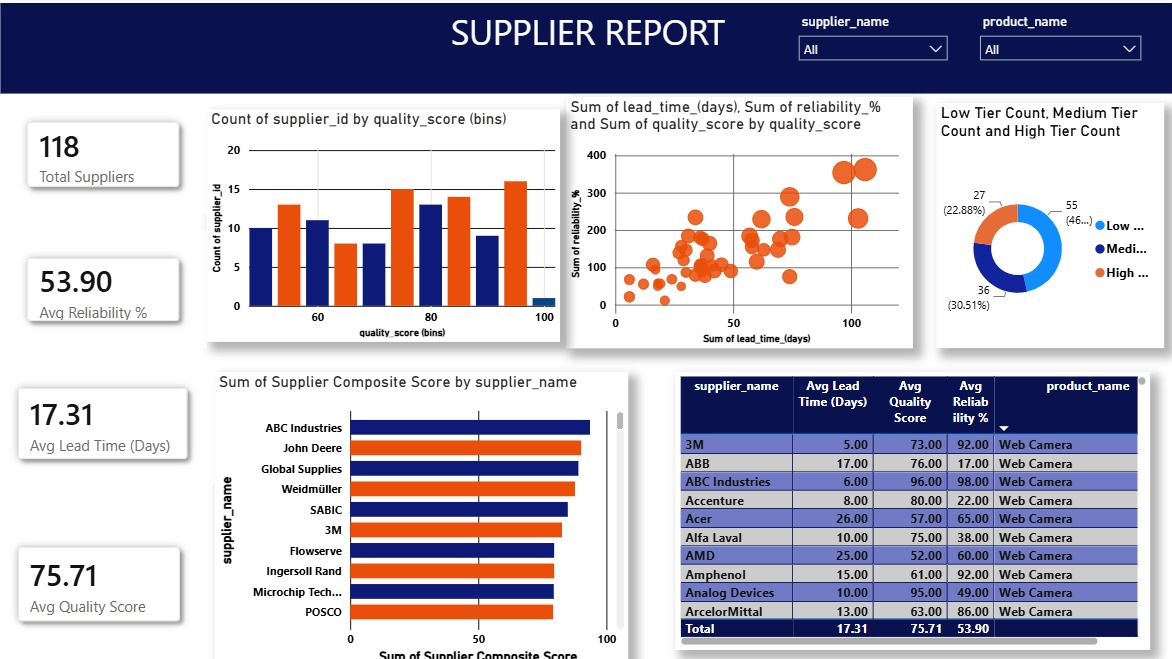

What the dashboard file says about the page in this screenshot:
{"tool":"powerbi","page":{"name":"Page 4","canvas":[1280,720],"ordinal":3},"visuals":[{"type":"textbox","box":[10.1,0,1270.3,98],"z":0},{"type":"cardVisual","fields":{"Data":["Fact_table.Total Suppliers"]},"box":[22,108.1,211.2,131.8],"z":1000},{"type":"cardVisual","fields":{"Data":["Fact_table.Avg Quality Score"]},"box":[321,417.2,250,141.9],"z":2000},{"type":"cardVisual","fields":{"Data":["Fact_table.Avg Reliability %"]},"box":[10.1,258.4,223,128.4],"z":3000},{"type":"cardVisual","fields":{"Data":["Fact_table.Avg Lead Time (Days)"]},"box":[321,569.3,250,150.3],"z":4000},{"type":"barChart","fields":{"Category":["Dim_supplier.supplier_name"],"Y":["Sum(Dim_supplier.Supplier Composite Score)"]},"box":[0,398.7,263.5,321],"z":5000},{"type":"donutChart","fields":{"Y":["Fact_table.Low Tier Count","Fact_table.Medium Tier Count","Fact_table.High Tier Count"]},"box":[1032.1,121.6,248.3,212.8],"z":6000},{"type":"scatterChart","fields":{"Size":["Sum(Dim_supplier.quality_score)"],"Y":["Sum(Dim_supplier.reliability_%)"],"X":["Sum(Dim_supplier.lead_time_(days))"],"Category":["Dim_supplier.quality_score"]},"box":[263.5,101.4,375,290.5],"z":7000},{"type":"clusteredColumnChart","fields":{"Y":["CountNonNull(Dim_supplier.supplier_id)"],"Category":["Dim_supplier.quality_score (bins)"]},"box":[645.3,119.9,368,252],"z":8000},{"type":"tableEx","fields":{"Values":["Dim_supplier.supplier_name","Fact_table.Avg Lead Time (Days)","Fact_table.Avg Quality Score","Fact_table.Avg Reliability %","Dim_Product.product_name"]},"box":[586.2,417.2,478,282.1],"z":9000},{"type":"listSlicer","fields":{"Values":["Dim_supplier.supplier_name"]},"box":[1086.2,559.1,194.3,160.5],"z":10000},{"type":"listSlicer","fields":{"Values":["Dim_Product.product_name"]},"box":[1086.2,386.8,194.3,160.5],"z":11000}]}

Visuals, with their boxes in screenshot pixels (x1, y1, x2, y2), scaled from the page's 1280x720 canvas onto the 1172x659 screenshot:
textbox: box(9, 0, 1171, 90)
cardVisual - Fact_table.Total Suppliers: box(20, 99, 214, 220)
cardVisual - Fact_table.Avg Quality Score: box(294, 382, 523, 512)
cardVisual - Fact_table.Avg Reliability %: box(9, 237, 213, 354)
cardVisual - Fact_table.Avg Lead Time (Days): box(294, 521, 523, 658)
barChart - Dim_supplier.supplier_name x Sum(Dim_supplier.Supplier Composite Score): box(0, 365, 241, 658)
donutChart - Fact_table.Low Tier Count x Fact_table.Medium Tier Count: box(945, 111, 1171, 306)
scatterChart - Sum(Dim_supplier.quality_score) x Sum(Dim_supplier.reliability_%): box(241, 93, 585, 359)
clusteredColumnChart - CountNonNull(Dim_supplier.supplier_id) x Dim_supplier.quality_score (bins): box(591, 110, 928, 340)
tableEx - Dim_supplier.supplier_name x Fact_table.Avg Lead Time (Days): box(537, 382, 974, 640)
listSlicer - Dim_supplier.supplier_name: box(995, 512, 1171, 658)
listSlicer - Dim_Product.product_name: box(995, 354, 1171, 501)
